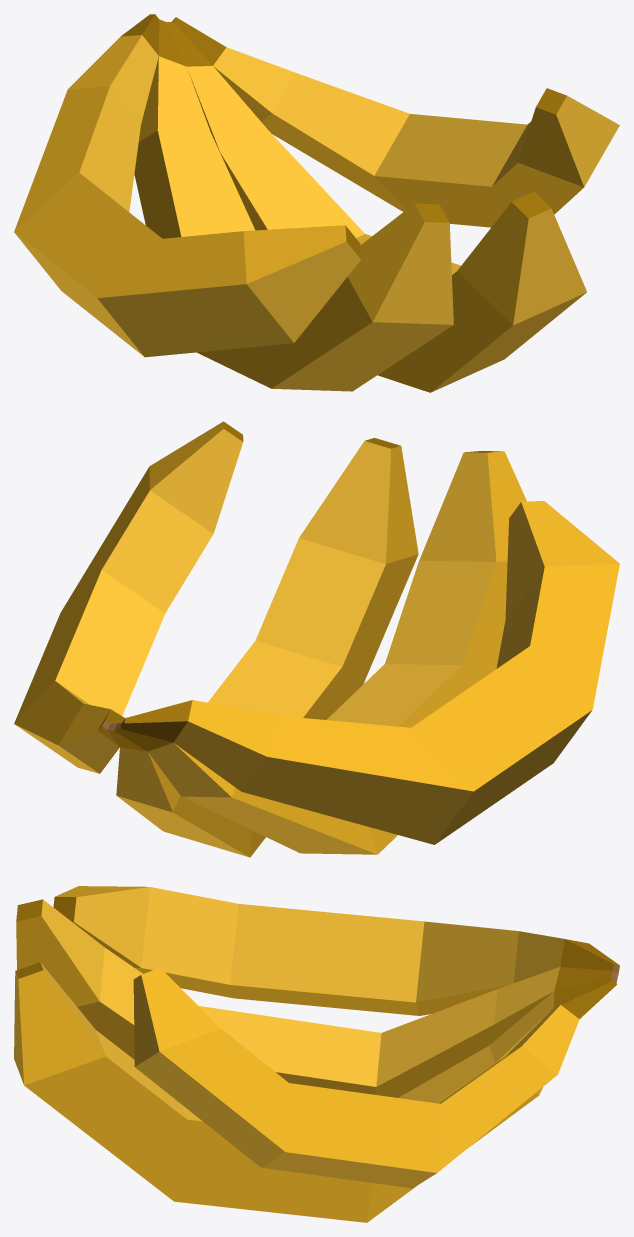
Rendered from Bananas_01.glb.
3 renders of one model, top to bottom at view 1: azimuth 30°, elevation 25°; view 2: azimuth 150°, elevation 25°; view 3: azimuth 270°, elevation 25°, orthographic. The views are drawn at different scales.
Parts seen in each view (by area): view 1: Bananas_01; view 2: Bananas_01; view 3: Bananas_01.
Boxes of the visible parts, bbox=[...] form: Bananas_01: bbox=[14, 14, 619, 392]; Bananas_01: bbox=[14, 421, 619, 857]; Bananas_01: bbox=[14, 886, 619, 1222].
Size of what is drawn, in the model's own units: 0.3262 by 0.1942 by 0.3699.
1 material, 1 textured.
